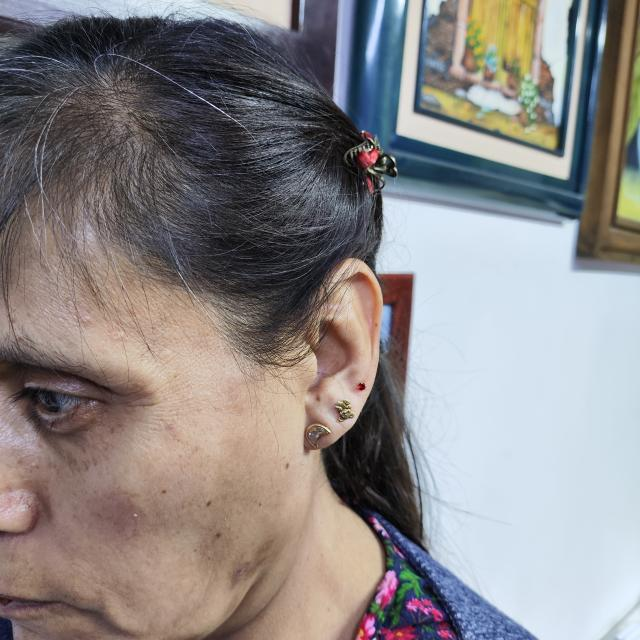ear: (304, 259, 382, 450)
